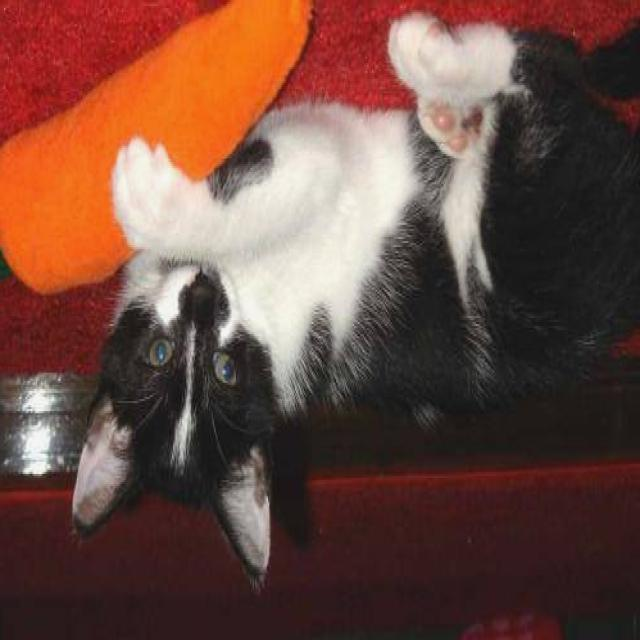Kucing: (72, 0, 628, 599)
